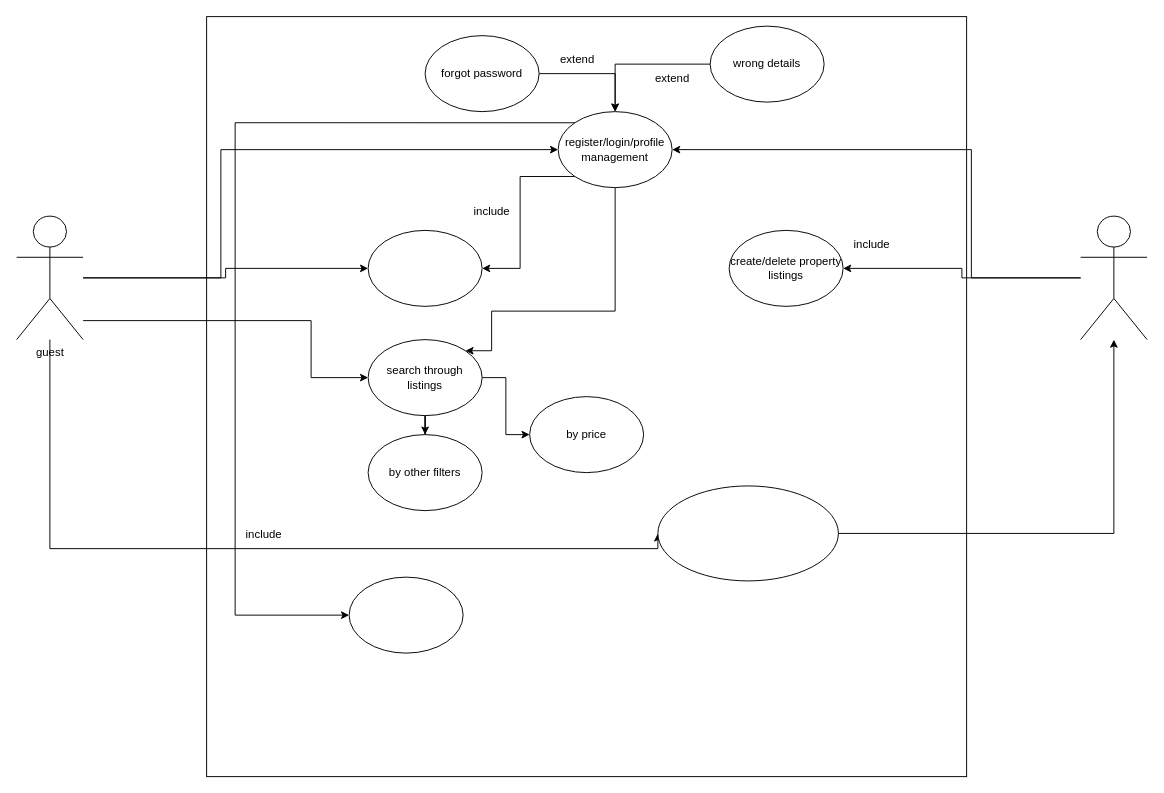
The diagram is 1164 pixels wide and 793 high, and some of its shapes have lost their labels. The shapes that lost their labels are listed below. From the top down, each one's centre as x and y in pixels, then its label:
the point at 424,267: see property listings
the point at 1113,277: host
the point at 747,533: payyments
the point at 405,614: booking (creation/deletion/etc)
